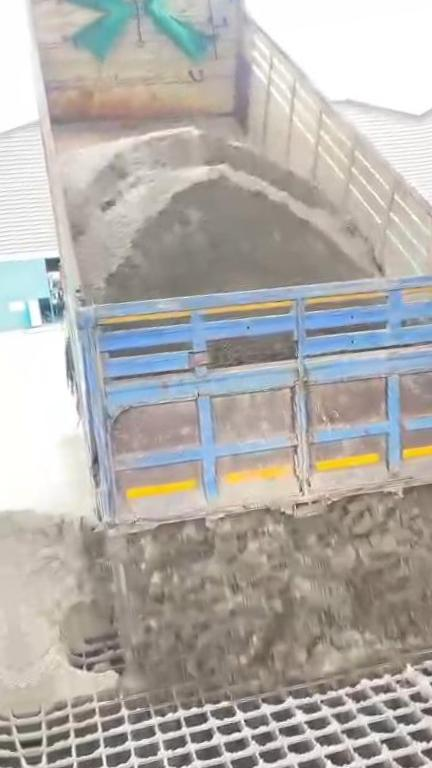sand: (0, 482, 432, 706), (56, 127, 379, 302), (213, 335, 287, 365)
